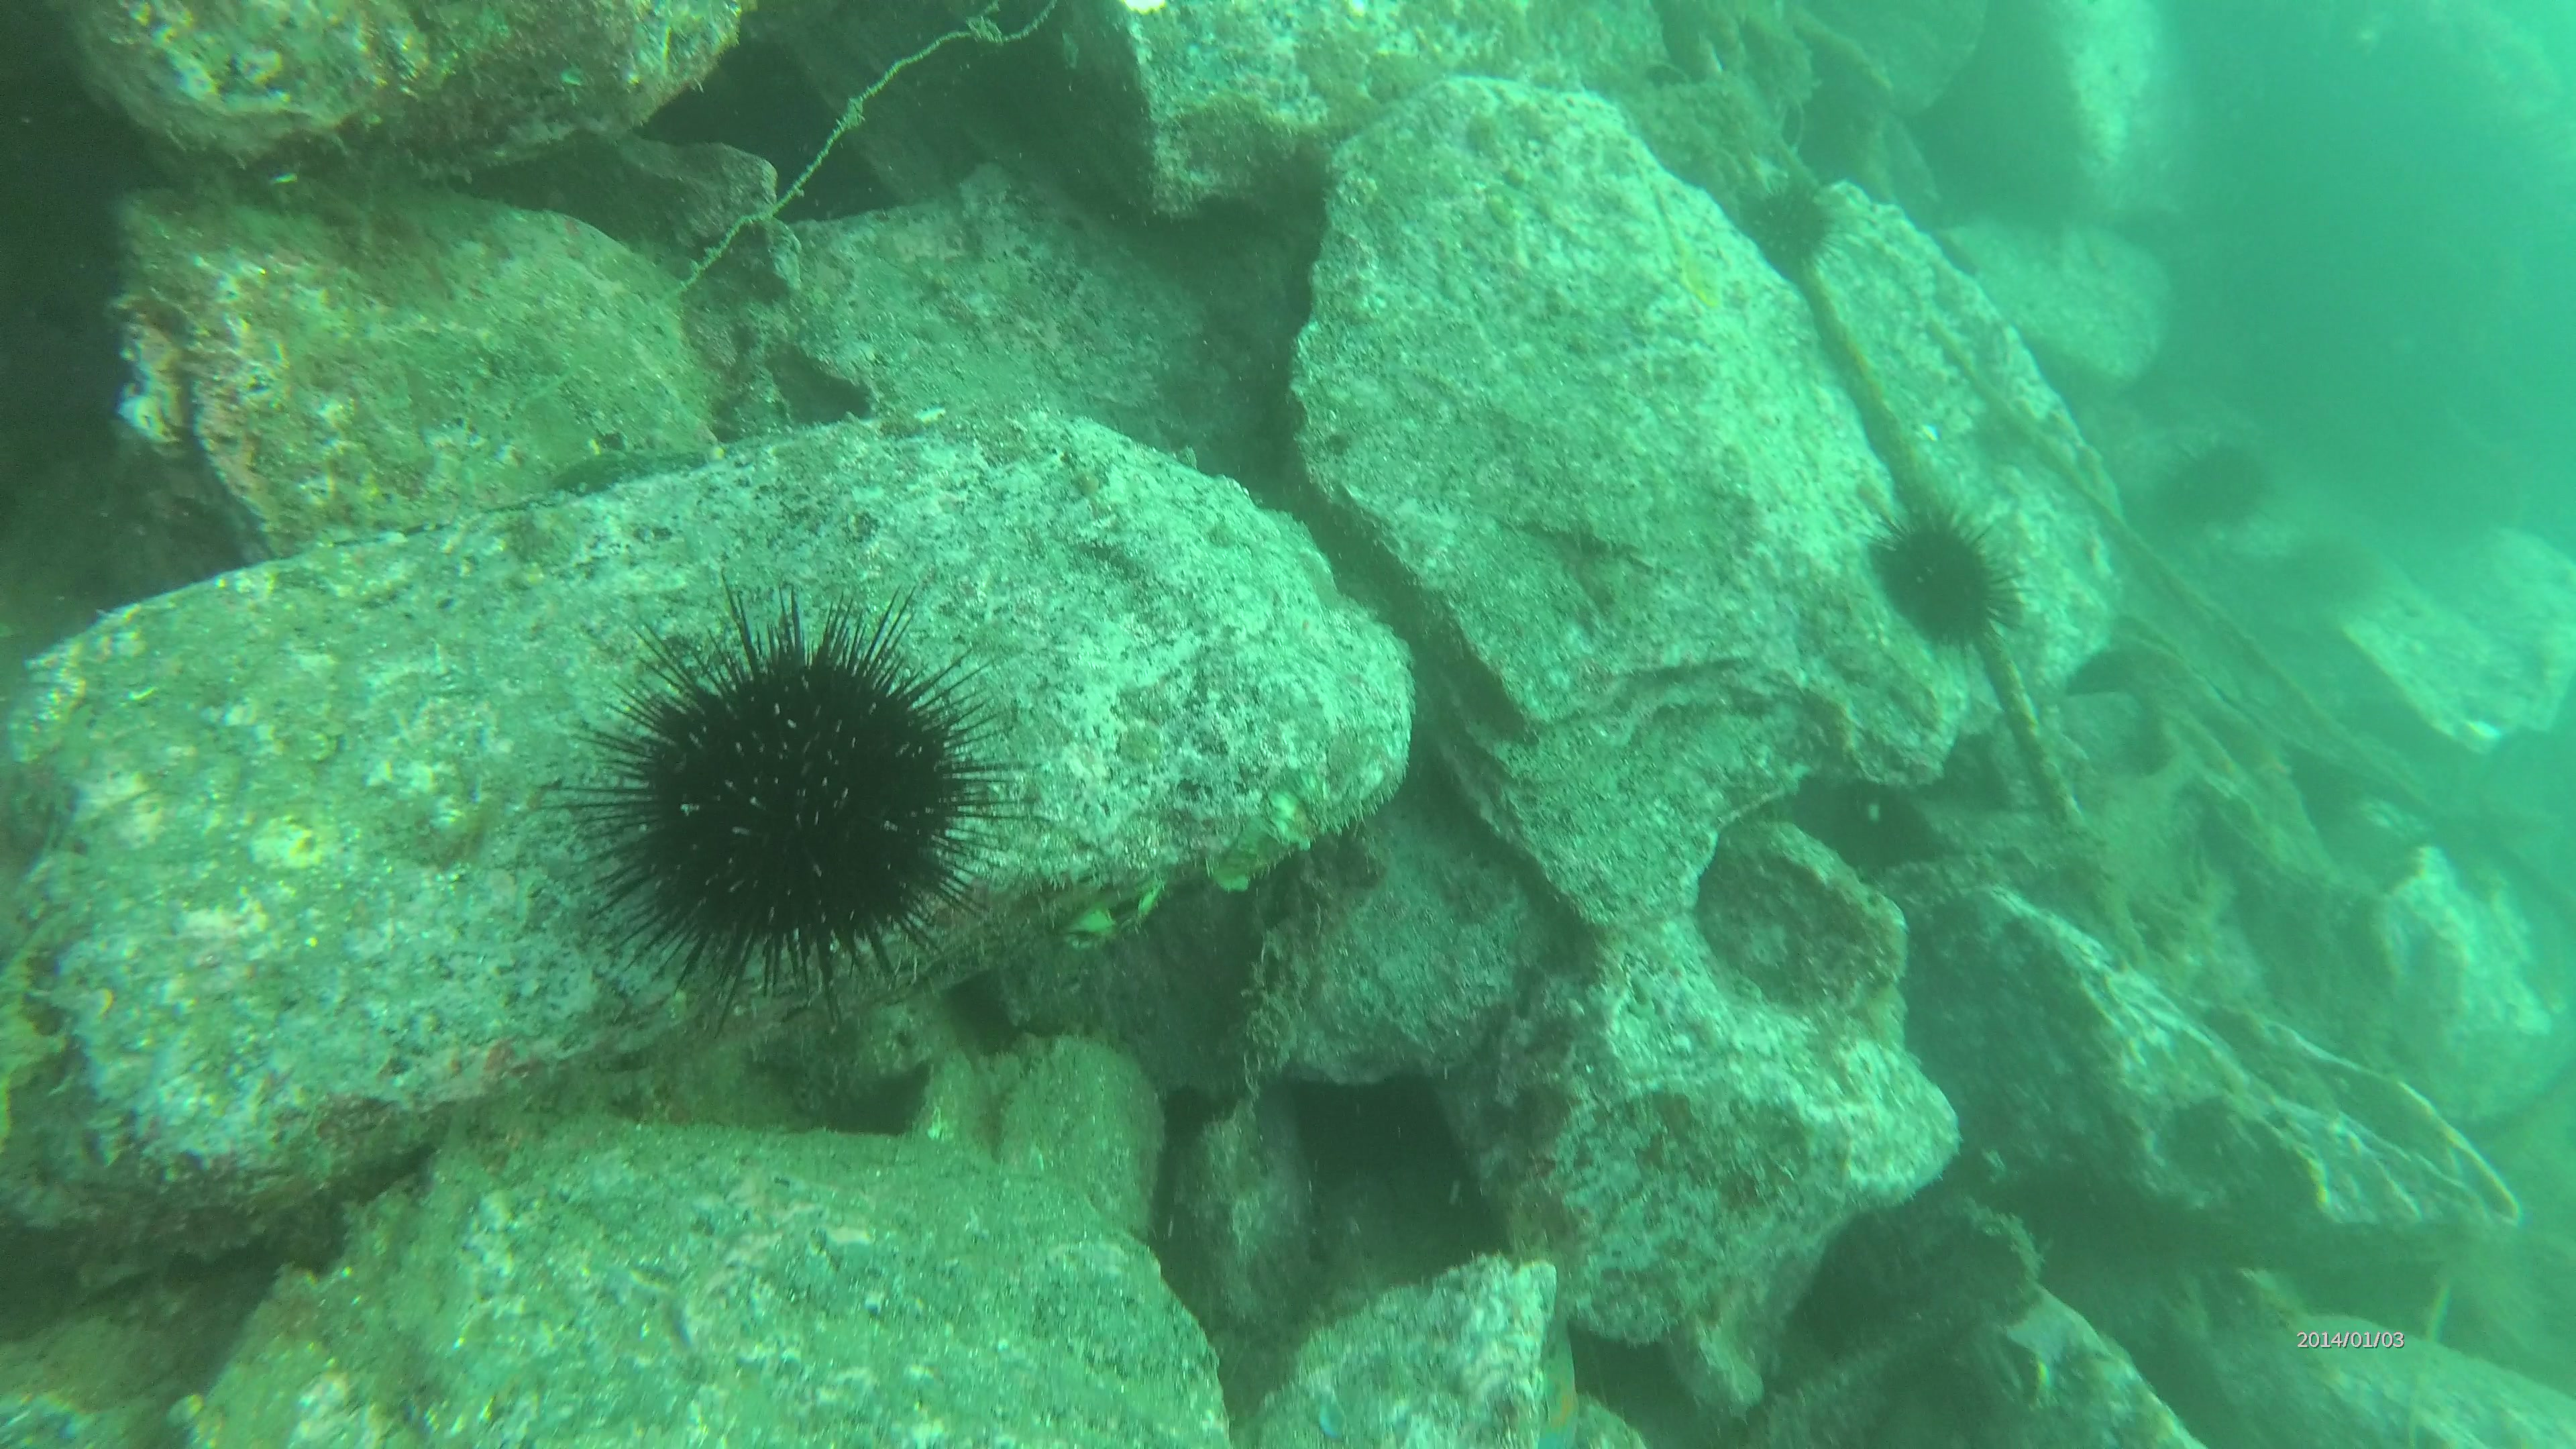echinus: (534, 586, 1030, 1030), (1852, 490, 2038, 653), (2268, 511, 2392, 632), (1727, 165, 1854, 281), (2166, 419, 2288, 534)
